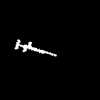double_crochet: (15, 40, 55, 55)
